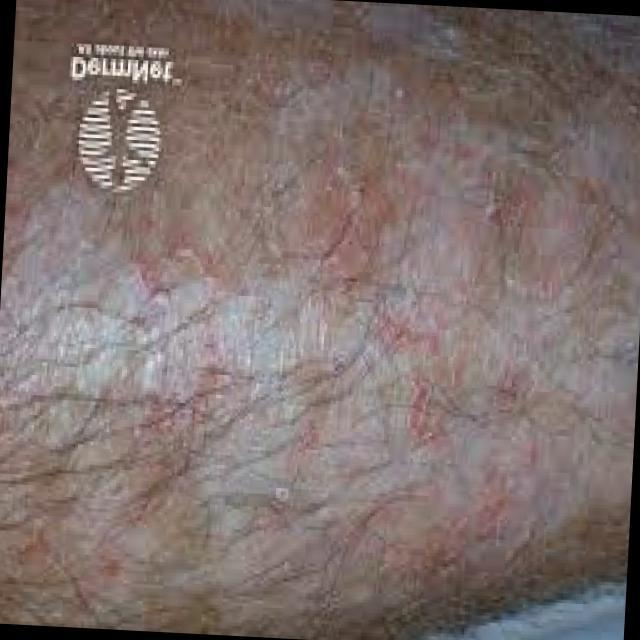Eczema: (159, 145, 626, 568)
